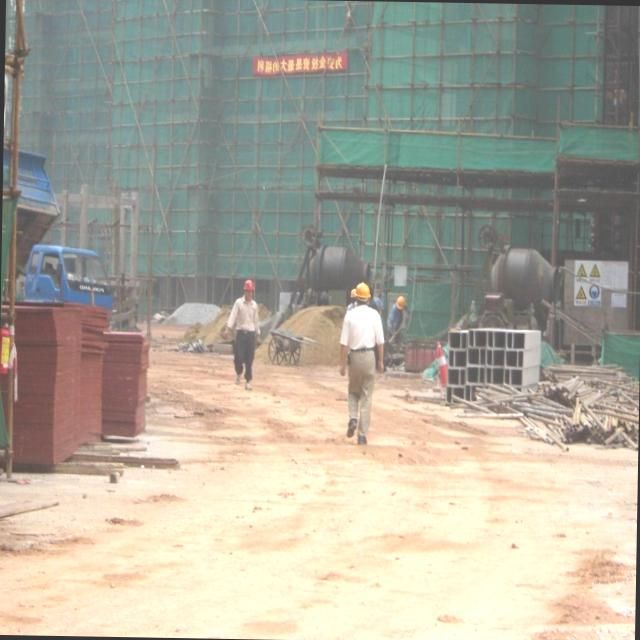helmet: (354, 281, 376, 303), (240, 278, 258, 295), (394, 294, 406, 310)
no-vest: (342, 307, 380, 359), (224, 298, 260, 333)
